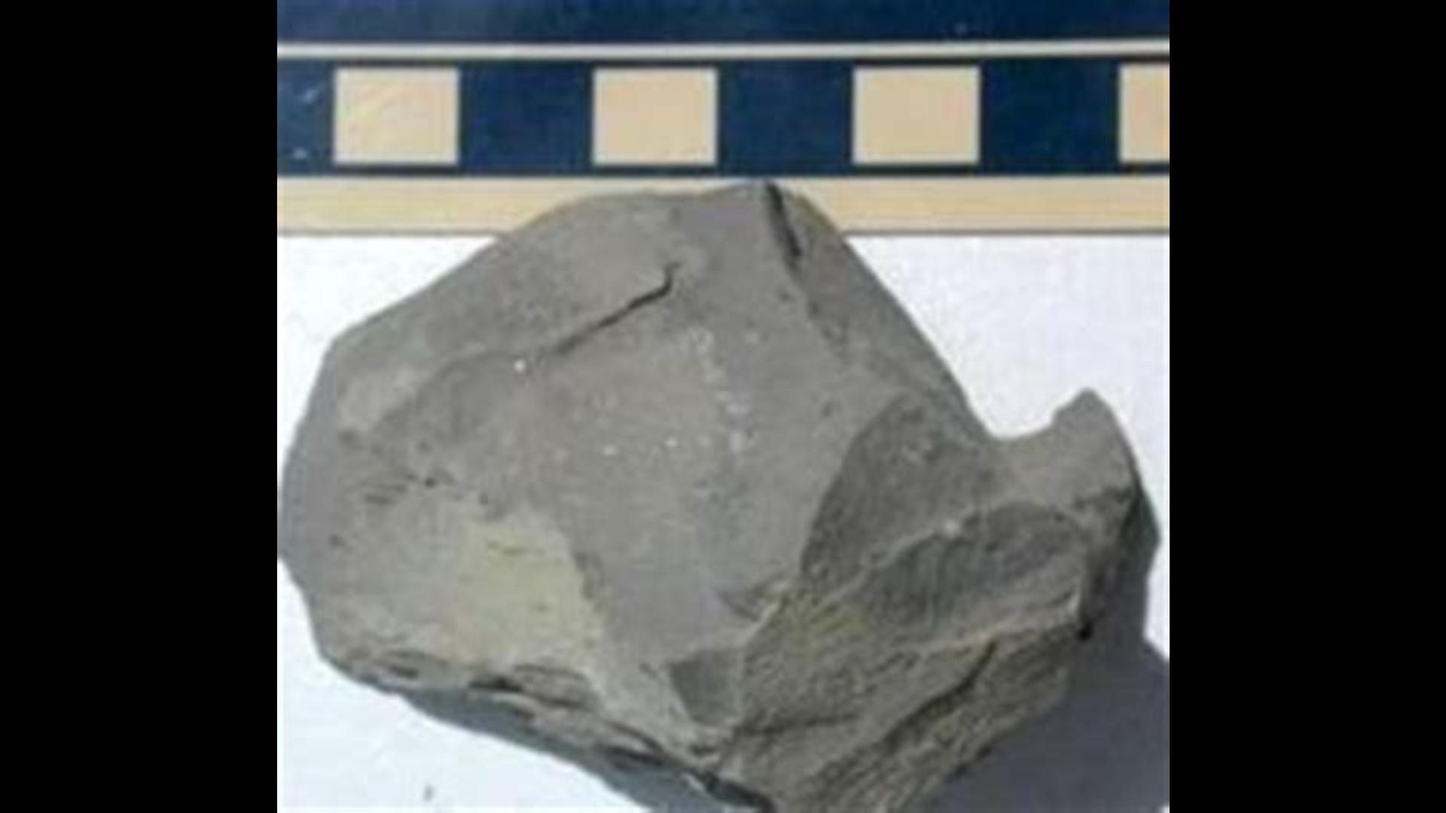rock: (285, 184, 1139, 805)
